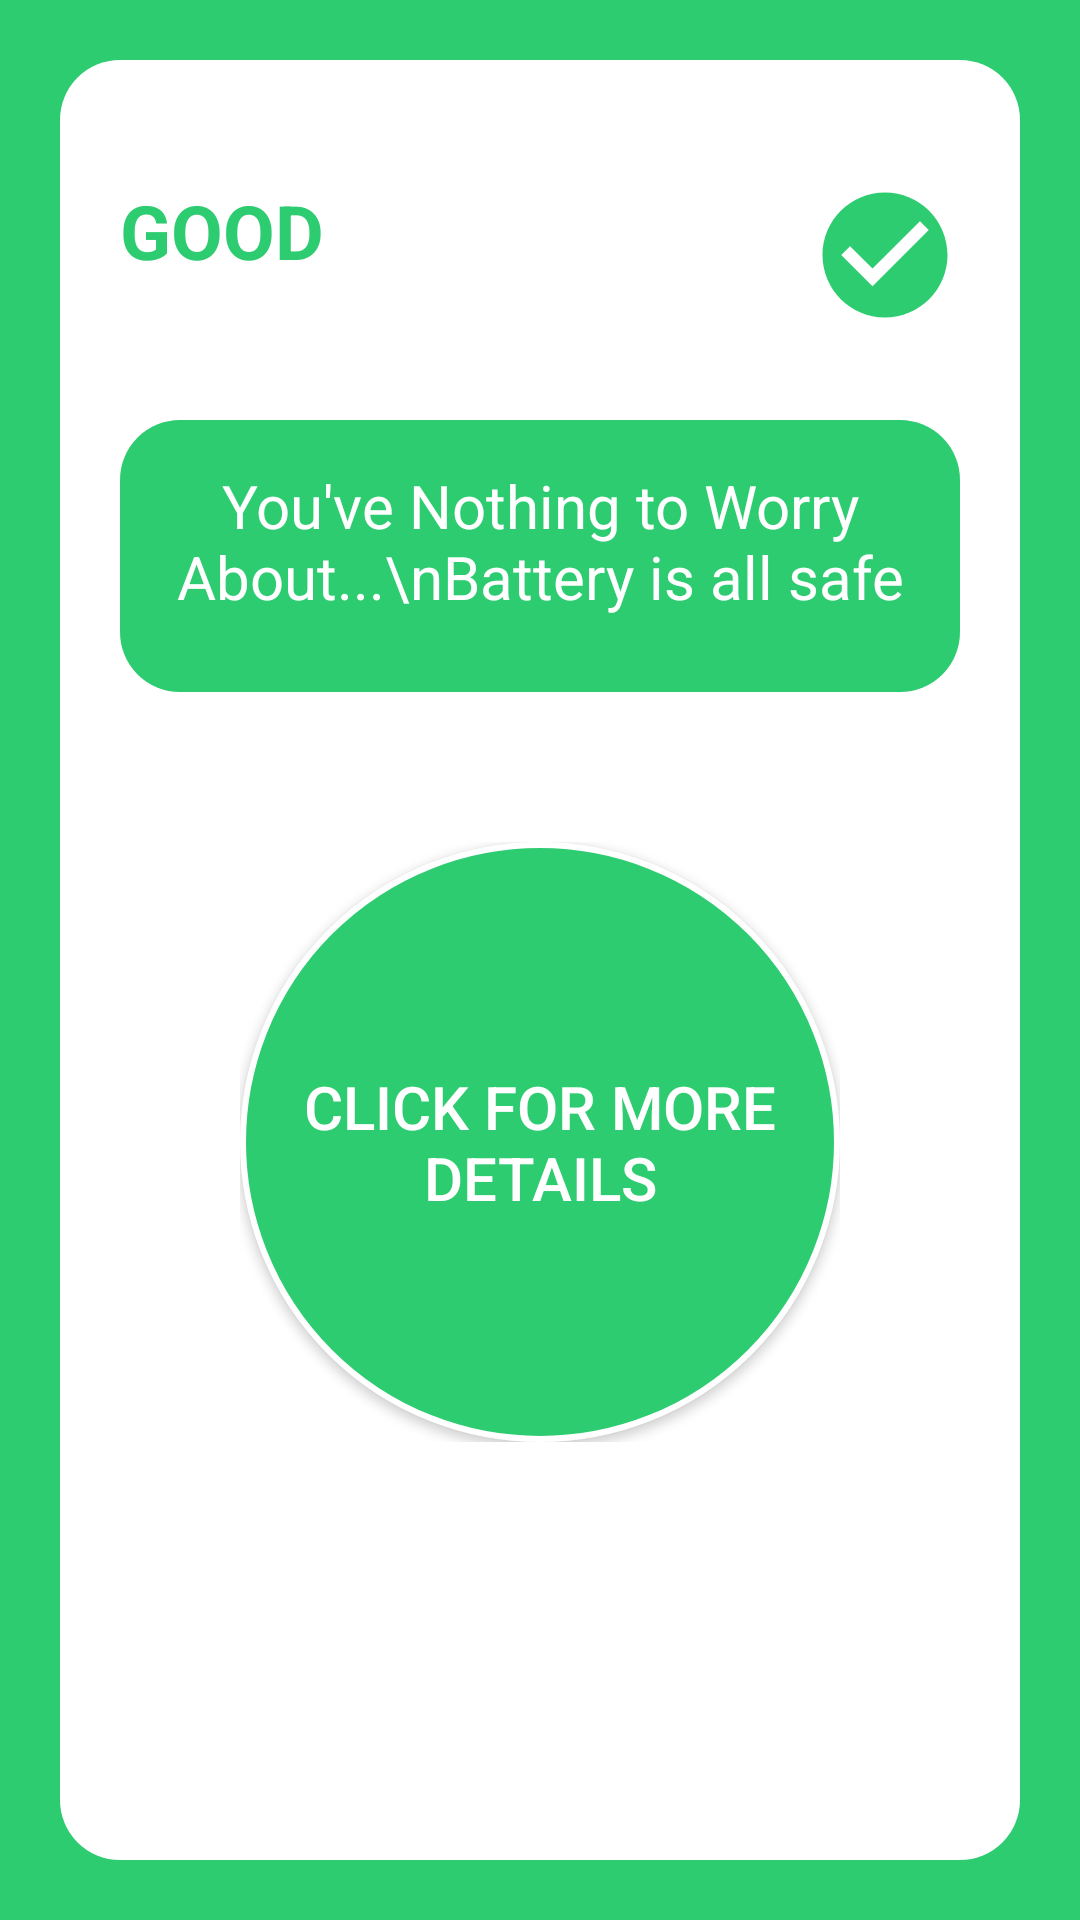

Screen size 1080*1920. Icon name, then its center in pixels as (x,y):
check circle: (885,255)
